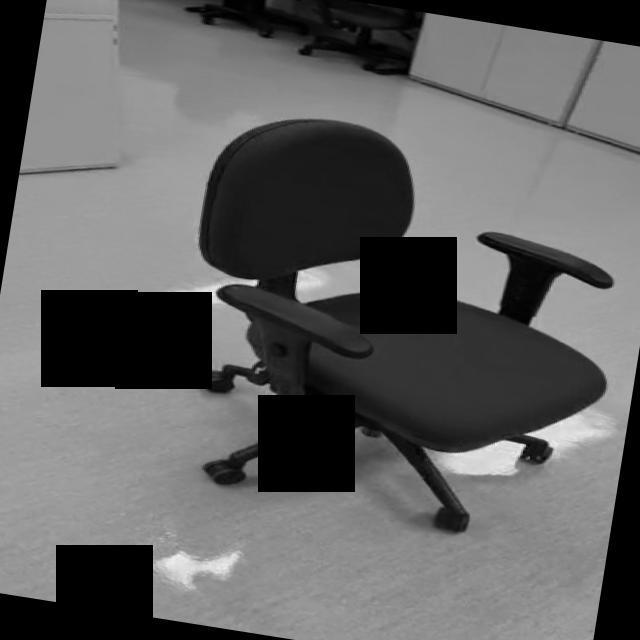chair: (158, 102, 640, 551)
